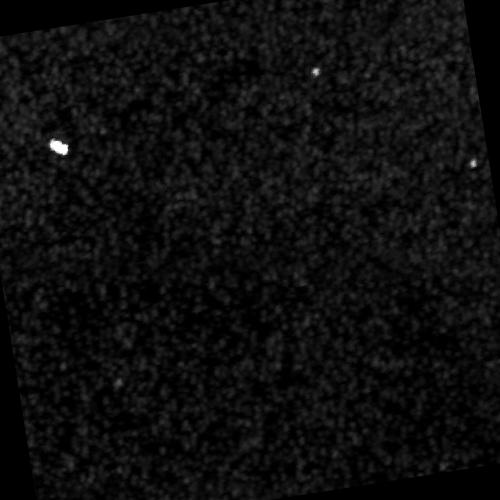ship: (48, 137, 69, 157)
